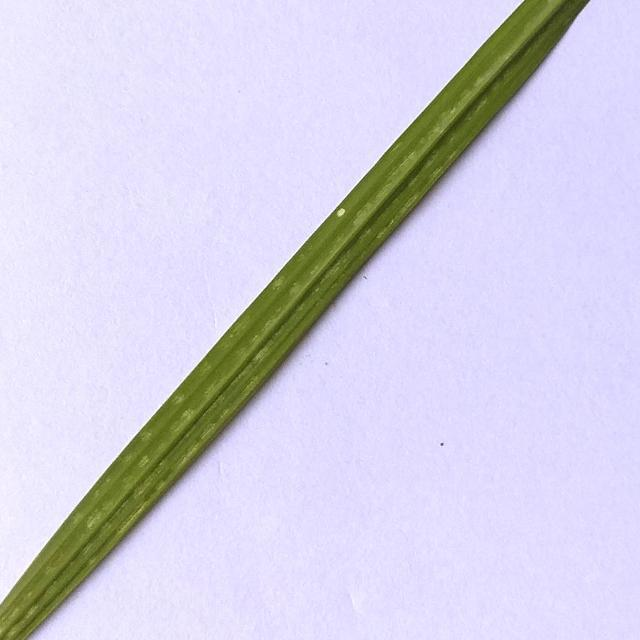Blast: (337, 206, 350, 221)
